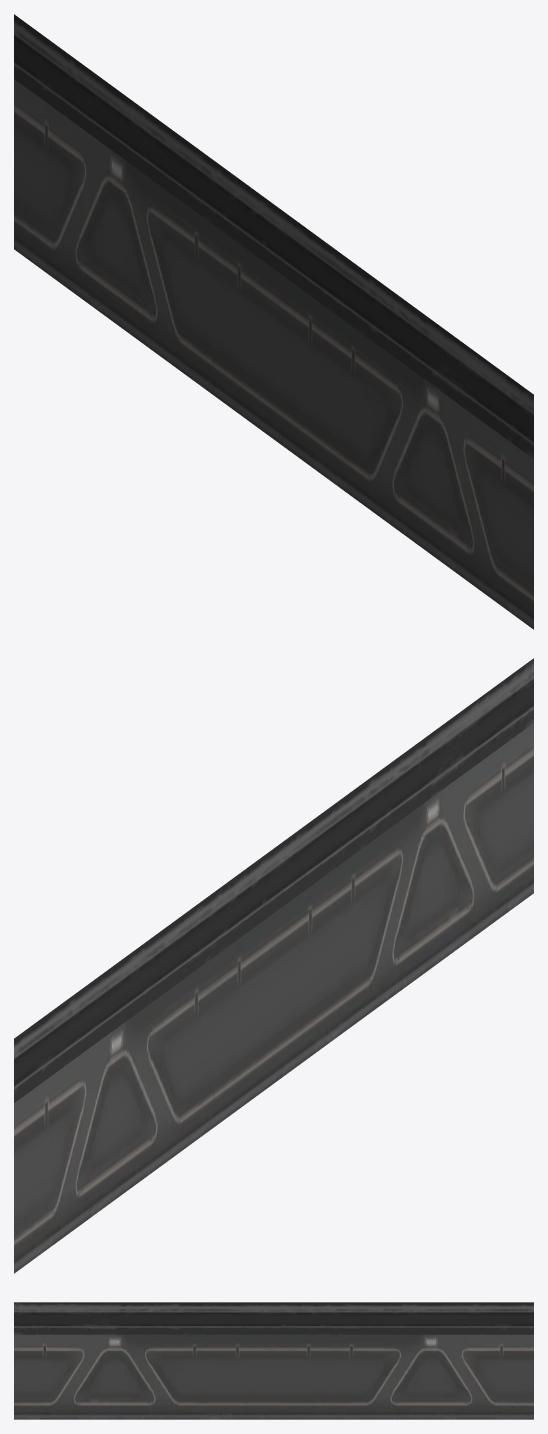
Rendered from ShortWall_Triangles_Straight.glb.
3 views of the same model, one above another, from view 1: azimuth 30°, elevation 25°; view 2: azimuth 150°, elevation 25°; view 3: azimuth 270°, elevation 25° (orthographic). The views are drawn at different scales.
Parts seen in each view (by area): view 1: ShortWall_Triangles_Straight; view 2: ShortWall_Triangles_Straight; view 3: ShortWall_Triangles_Straight.
Boxes of the visible parts, left/top/right/bottom form: ShortWall_Triangles_Straight: left=14, top=14, right=533, bottom=629; ShortWall_Triangles_Straight: left=14, top=658, right=533, bottom=1273; ShortWall_Triangles_Straight: left=14, top=1302, right=533, bottom=1419.
Bounding box in the file's own units: 0 × 0.9981 × 4.
1 material, 1 textured.
